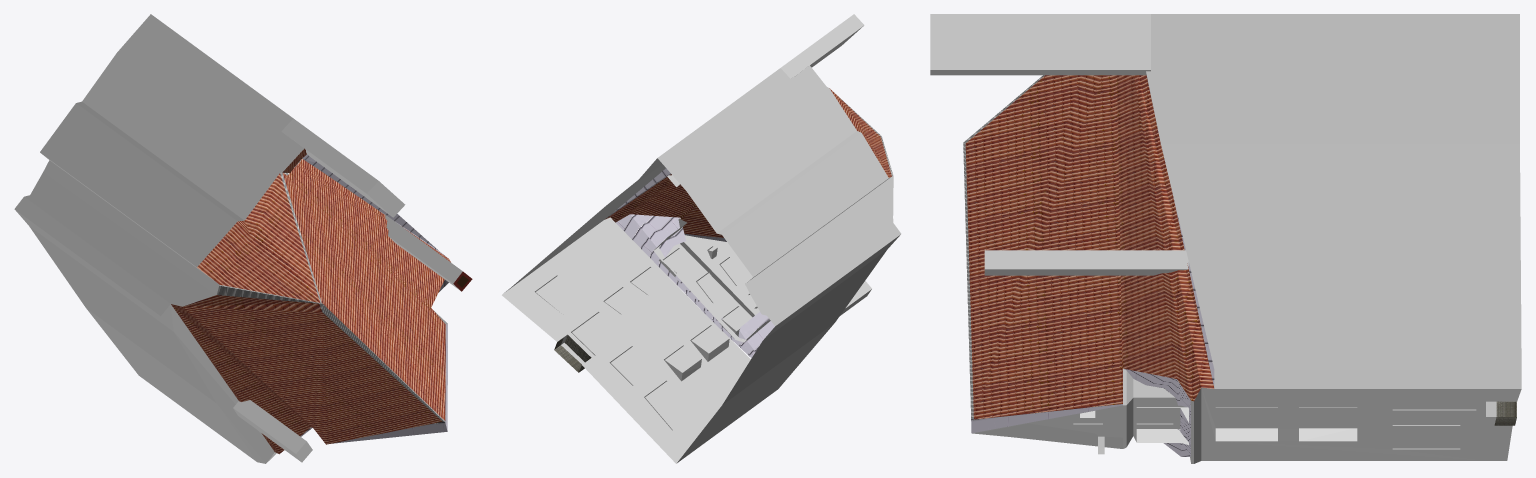
File: Pikk_13-origo.obj
3 renders of one model, left to right at view 1: azimuth 30°, elevation 25°; view 2: azimuth 150°, elevation 25°; view 3: azimuth 270°, elevation 25°, orthographic. The views are drawn at different scales.
Parts seen in each view (by area): view 1: Pikk_13; view 2: Pikk_13; view 3: Pikk_13.
Part boxes in pixels (left/top/right/bottom): Pikk_13: left=14, top=14, right=472, bottom=463; Pikk_13: left=502, top=14, right=901, bottom=463; Pikk_13: left=930, top=14, right=1521, bottom=463.
Size of the model in its own units: 16.38 by 17.5 by 20.49.
